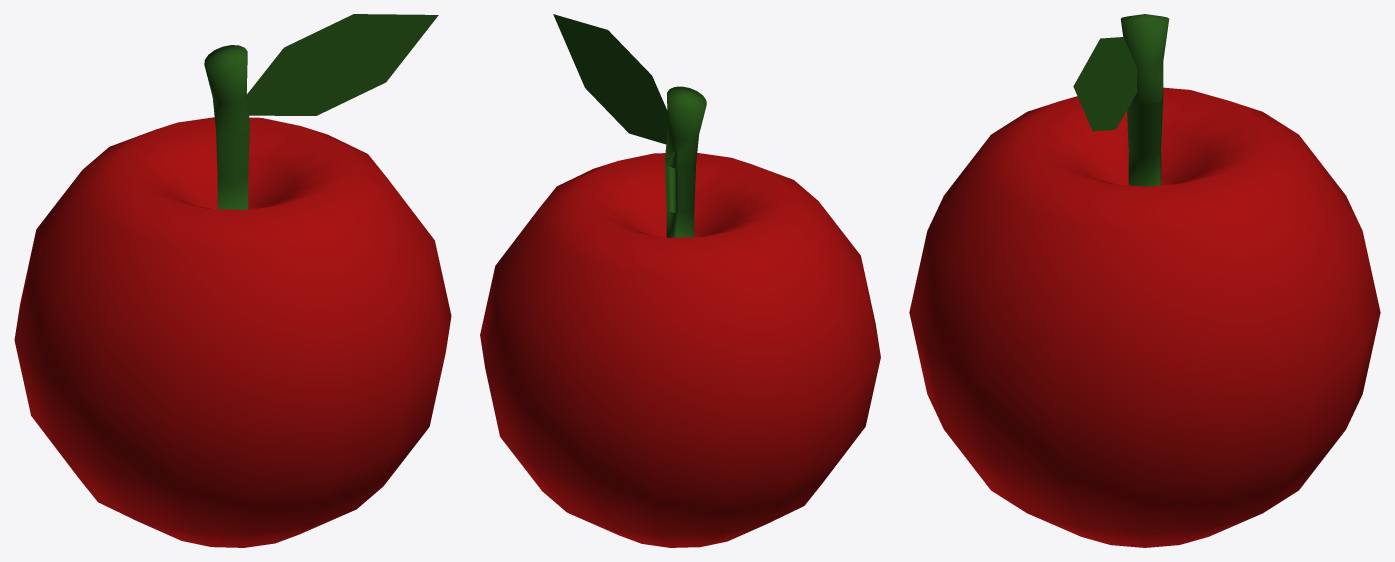
File: manzana.obj
3 views of the same model, side by side, from view 1: azimuth 30°, elevation 25°; view 2: azimuth 150°, elevation 25°; view 3: azimuth 270°, elevation 25° (orthographic). The views are drawn at different scales.
Visible parts, largest first — view 1: Sphere; view 2: Sphere; view 3: Sphere.
Part boxes in pixels (box(x1,y1,x2,y2)): Sphere: box(14, 14, 451, 547); Sphere: box(480, 14, 880, 547); Sphere: box(909, 14, 1380, 547).
Size of the model in its own units: 2 by 2.5 by 2.
